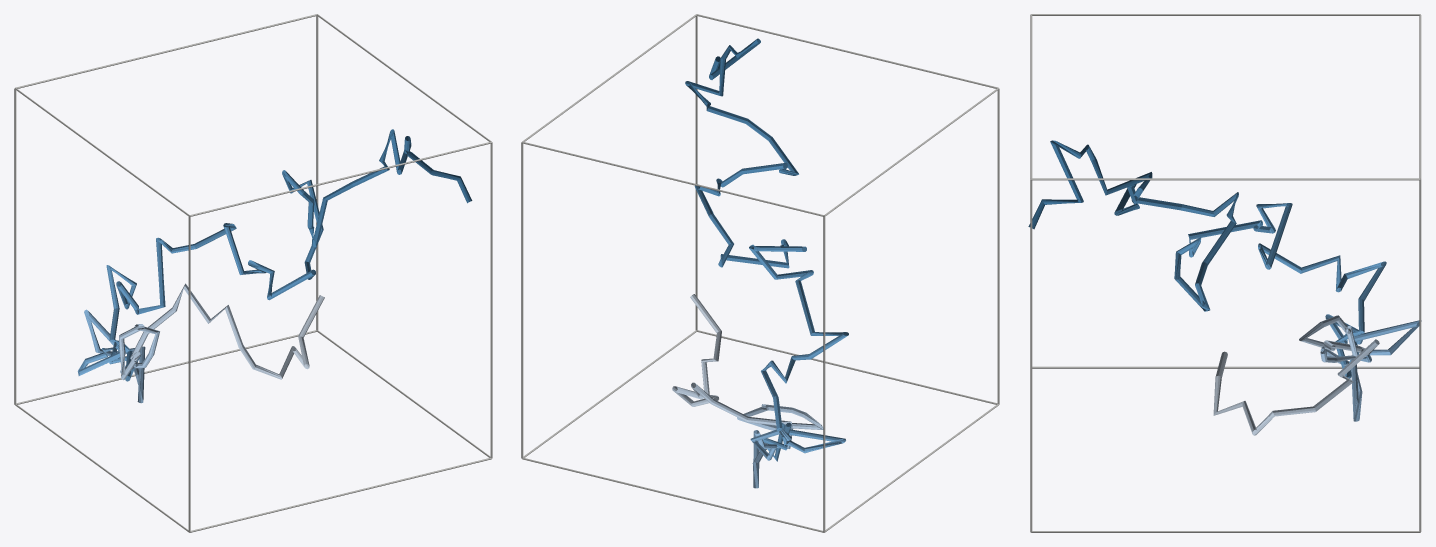
3 views of the same model, side by side, from view 1: azimuth 30°, elevation 25°; view 2: azimuth 150°, elevation 25°; view 3: azimuth 270°, elevation 25° (orthographic). The views are drawn at different scales.
Visible parts, largest first — view 1: geometry_0, geometry_1; view 2: geometry_0, geometry_1; view 3: geometry_0, geometry_1.
Boxes of the visible parts, x1=… form: geometry_0: x1=77, y1=129, x2=472, y2=403; geometry_1: x1=14, y1=14, x2=492, y2=532; geometry_0: x1=672, y1=38, x2=848, y2=488; geometry_1: x1=521, y1=14, x2=999, y2=532; geometry_0: x1=1028, y1=140, x2=1421, y2=435; geometry_1: x1=1030, y1=14, x2=1421, y2=532.
Bounding box in the file's own units: 0.3016 × 0.3032 × 0.3034.
